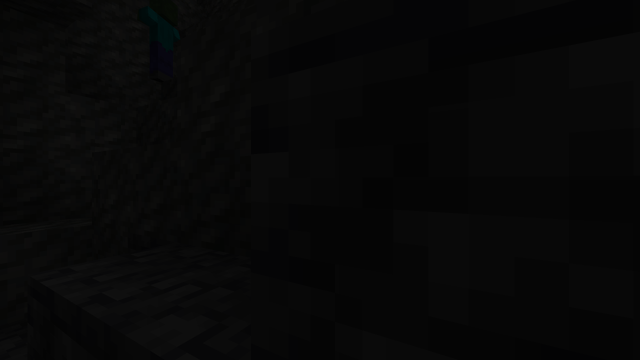zombies: (147, 0, 179, 81)
